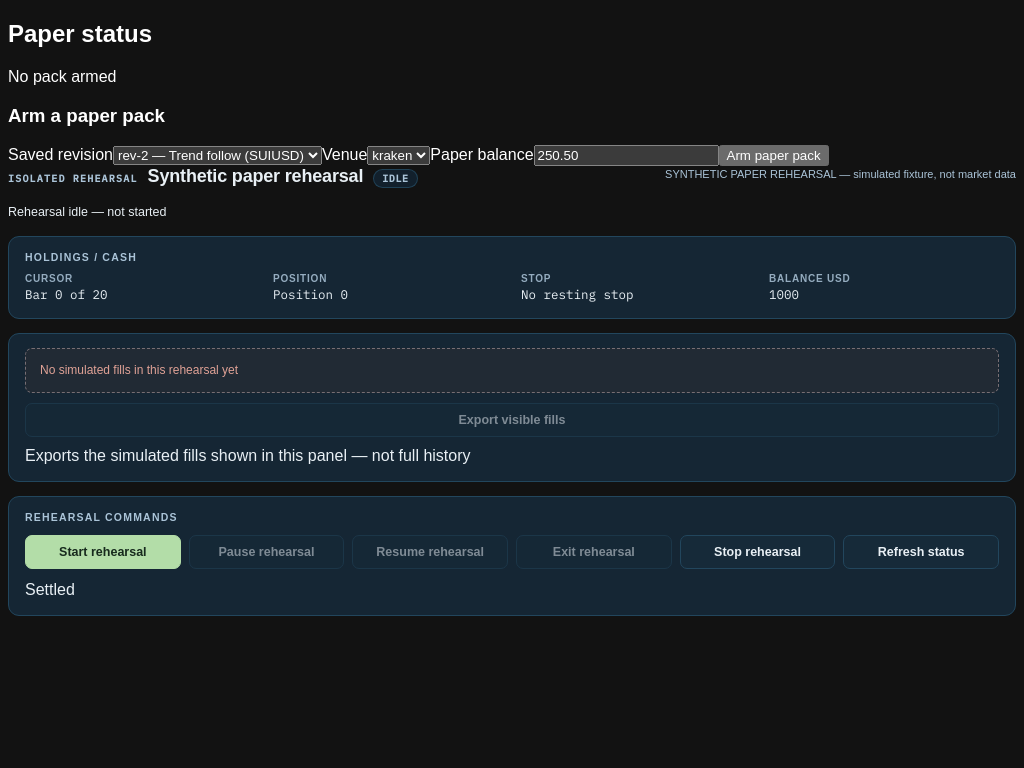
Test: StatusPanel paper arm tracer (primary user-action path) › renders an honest unknown-outcome message when the arm transport throws and never fabricates an armed state
Select "rev-2 — Trend follow (SUIUSD)" in the dropdown with test id "paper-arm-revision" at (218,156), box x1=113 y1=146 x2=322 y2=165
Replace the text in the field with test id "paper-arm-balance" with "100" at (626,156), box x1=534 y1=145 x2=718 y2=166
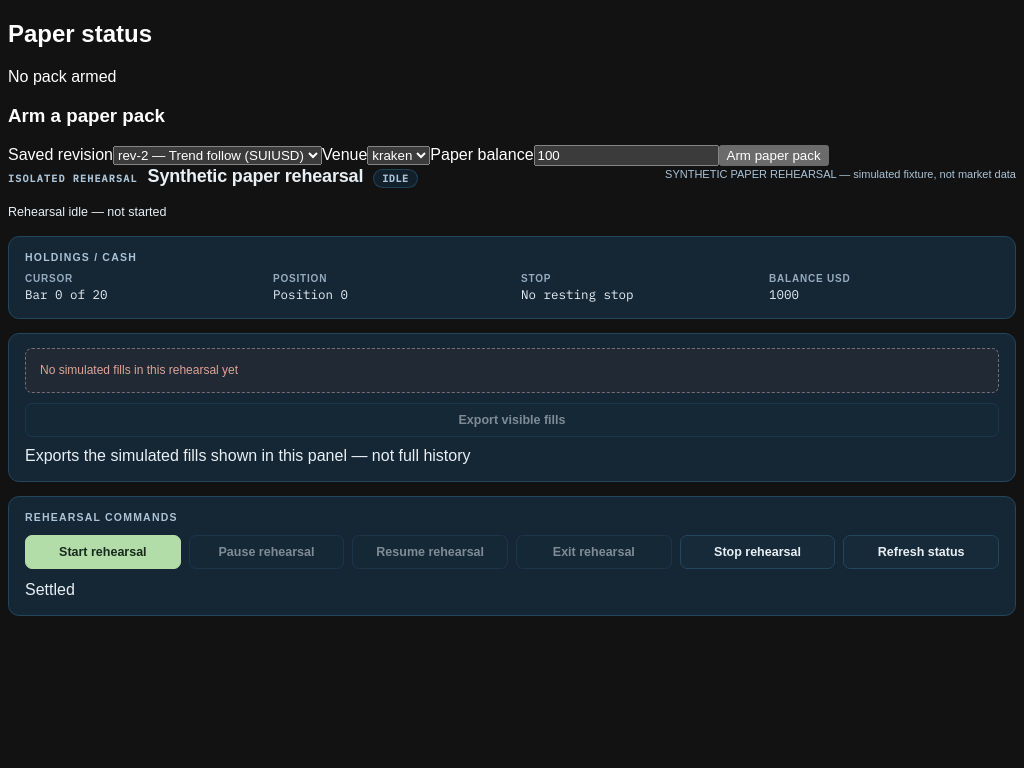
Click the button "Arm paper pack" at (774,156), box x1=718 y1=145 x2=829 y2=166
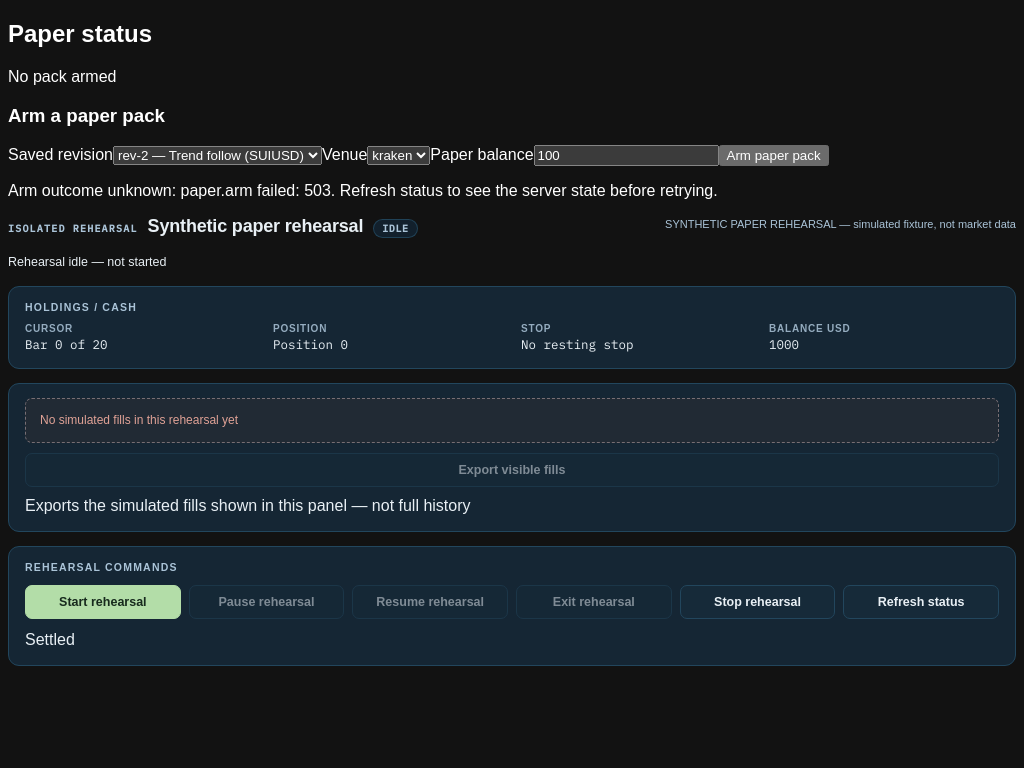
Expected: the message with test id "paper-arm-unknown" shows "Arm outcome unknown", x1=8 y1=182 x2=180 y2=199
Expected: the message with test id "paper-arm-unknown" shows "503", x1=180 y1=182 x2=331 y2=199
